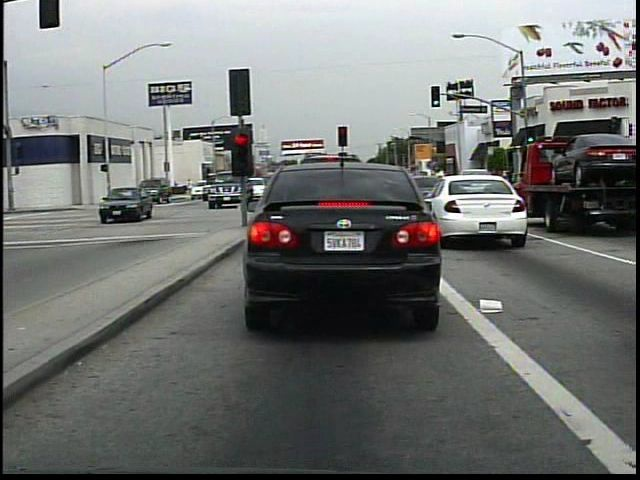person: (185, 175, 194, 201)
